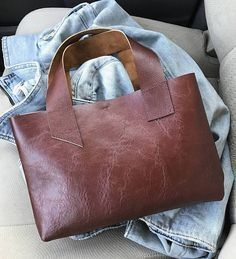cuero: (10, 28, 225, 242)
